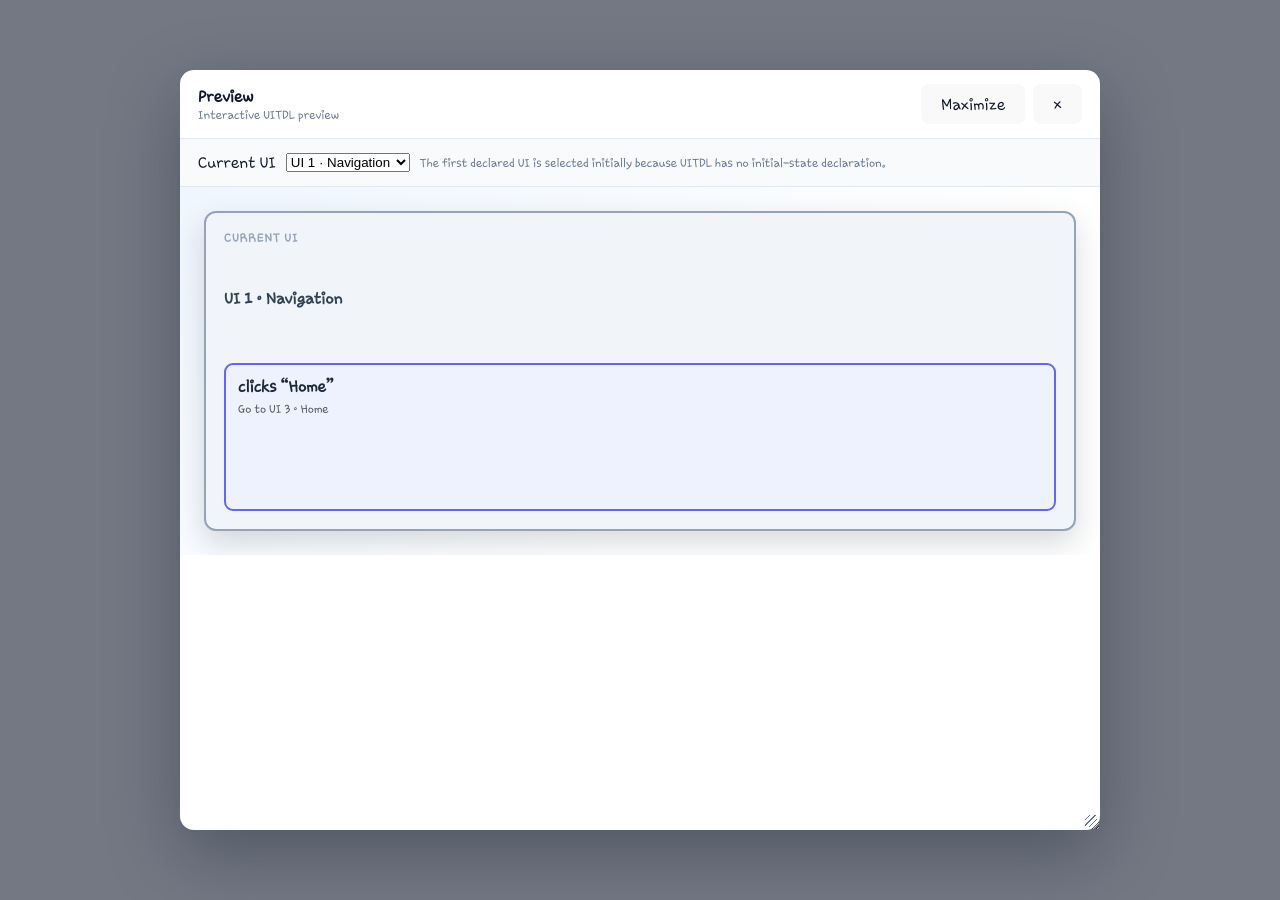
Test: InteractivePreview › opens a modal even when an action has only one condition
The image size is (1280, 900).
Select "UI 2 · Dashboard" in the dropdown labelled "Current UI" at (348, 163), box [286,153,410,172]
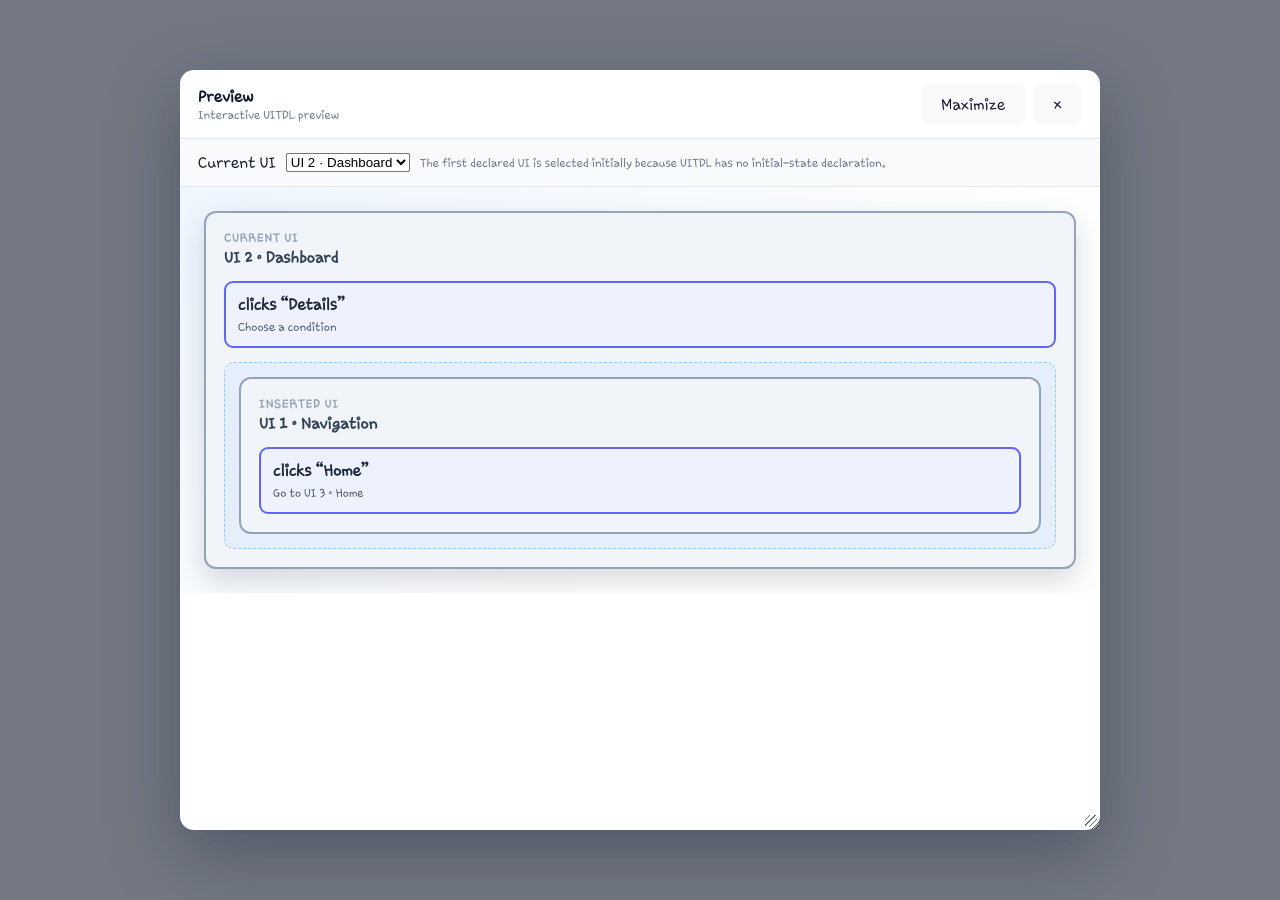
Click the button "clicks “Details” Choose a condition" at (257, 305), box [224,281,1056,348]
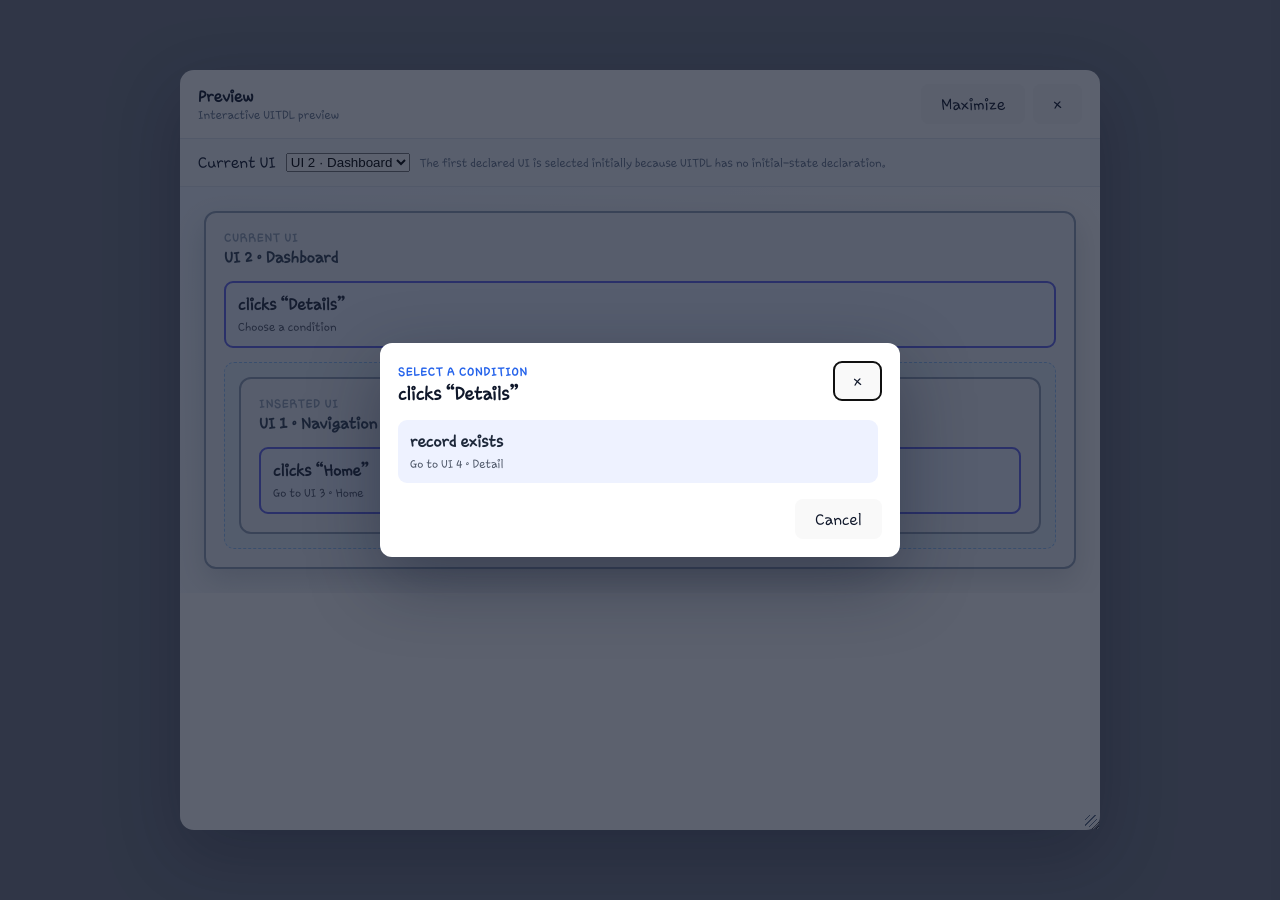
Expected: the button "record exists Go to UI 4 · Detail" is shown, [398,420,878,483]
